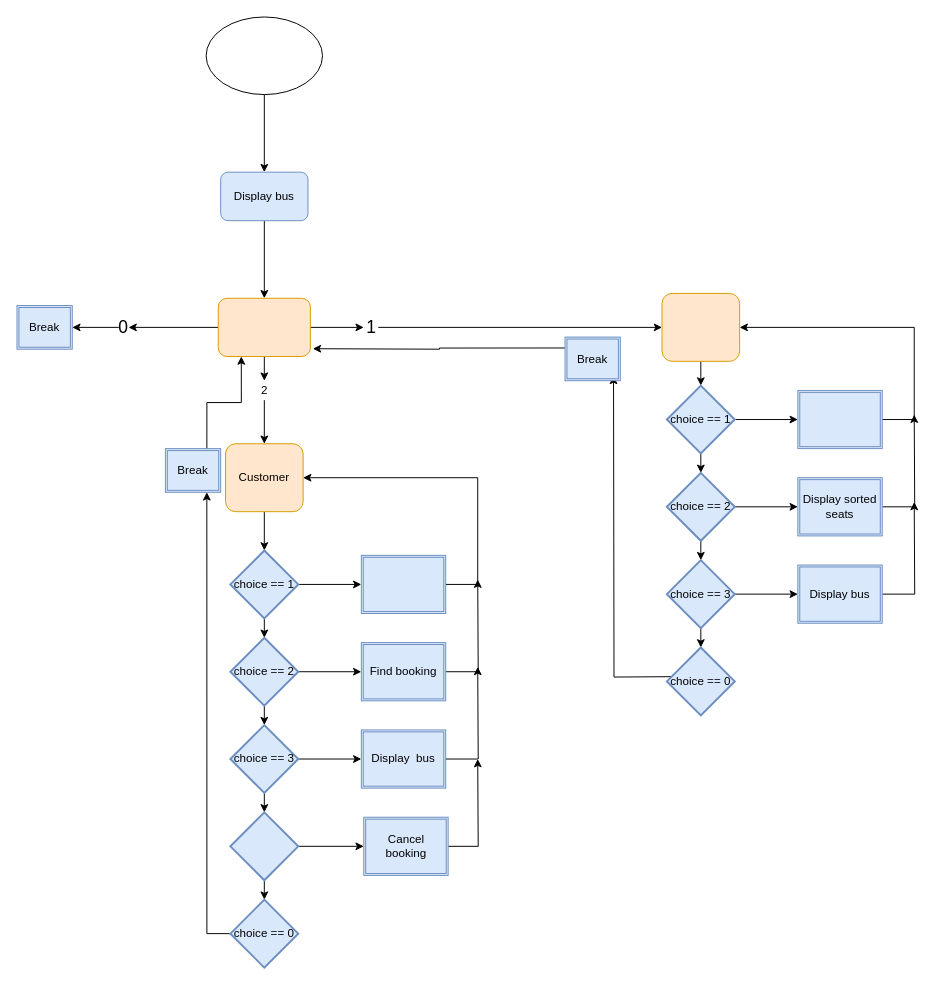
This 940x986 diagram has some shape labels left out. Here are the shapes that lost their labels. From the top down, the centre of each, then its label:
At point 264,55: "Start".
At point 263,326: "Which role".
At point 700,326: "Inspector".
At point 839,419: "Display booked seats profit".
At point 403,584: "Book seat".
At point 264,846: "choice == 4".
